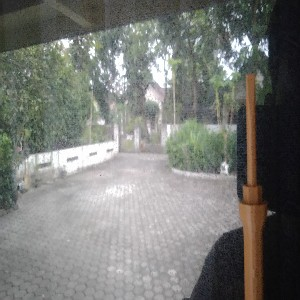obeng: (237, 74, 268, 300)
